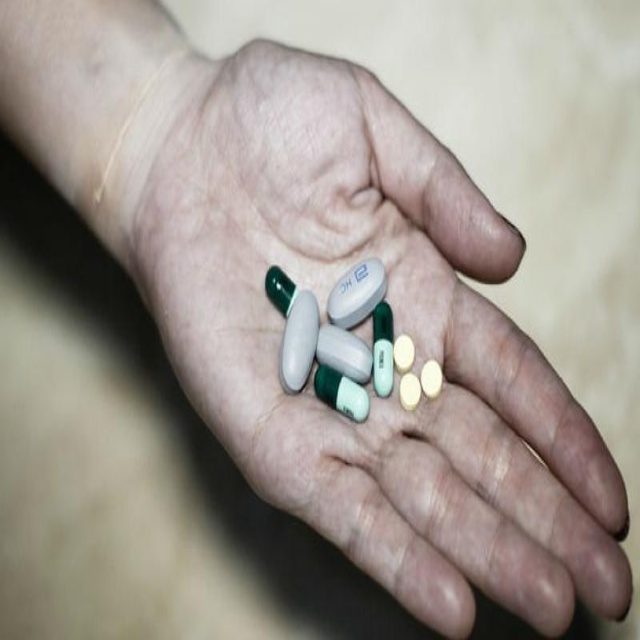pill: (409, 180, 485, 230), (350, 202, 399, 278), (393, 254, 462, 298), (394, 226, 467, 266), (331, 186, 388, 226), (465, 211, 495, 277), (527, 252, 554, 280), (493, 234, 519, 261), (500, 261, 526, 288)
